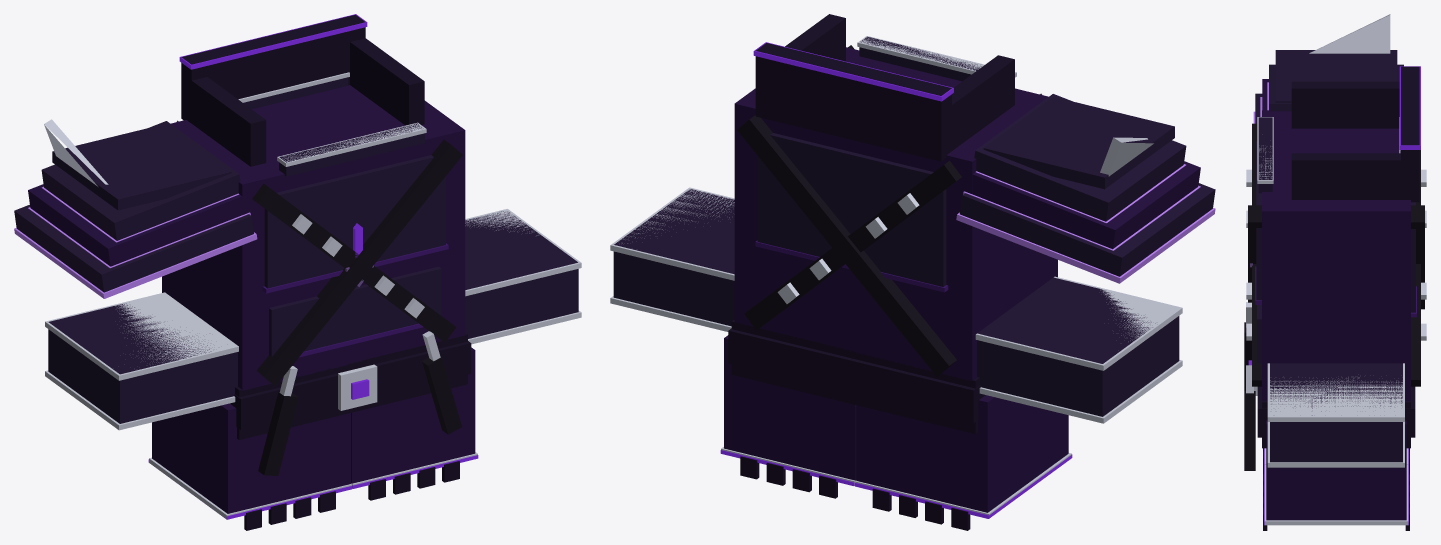
3 views of the same model, side by side, from view 1: azimuth 30°, elevation 25°; view 2: azimuth 150°, elevation 25°; view 3: azimuth 270°, elevation 25° (orthographic). The views are drawn at different scales.
Parts seen in each view (by area): view 1: rank-assassin-c; view 2: rank-assassin-c; view 3: rank-assassin-c.
Part boxes in pixels (box(x1,y1,x2,y2)): rank-assassin-c: box(14, 14, 581, 530); rank-assassin-c: box(610, 14, 1215, 530); rank-assassin-c: box(1244, 14, 1426, 530).
Bounding box in the file's own units: 1.2 × 0.959 × 0.42.
